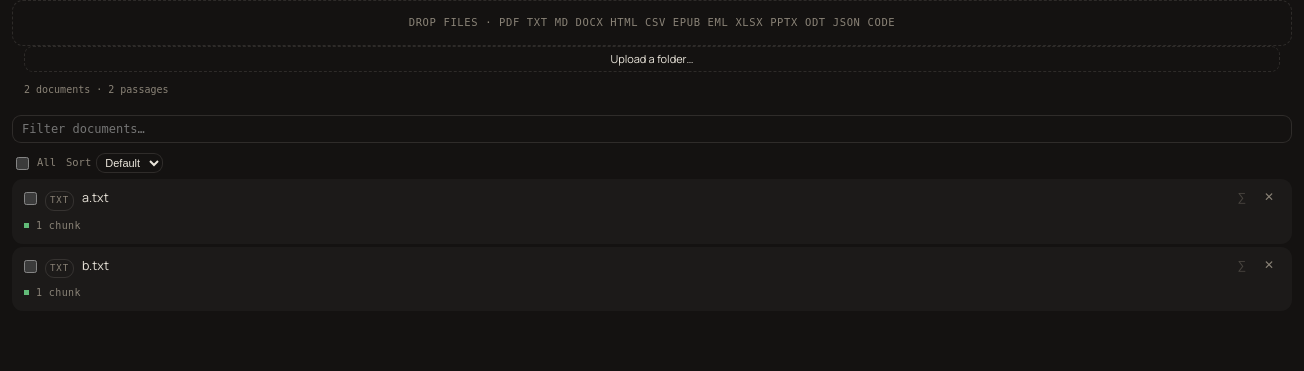
Scenario: CorpusPanel › keeps Summarize and Compare disabled while summaries can’t be asked
This screenshot has width=1304, height=371.
Expected: the button named "Summarize a.txt" is disabled, [1231,190,1252,204]
Click the 1st checkbox with test id "corpus-select": [30, 199] box [24,192,37,205]
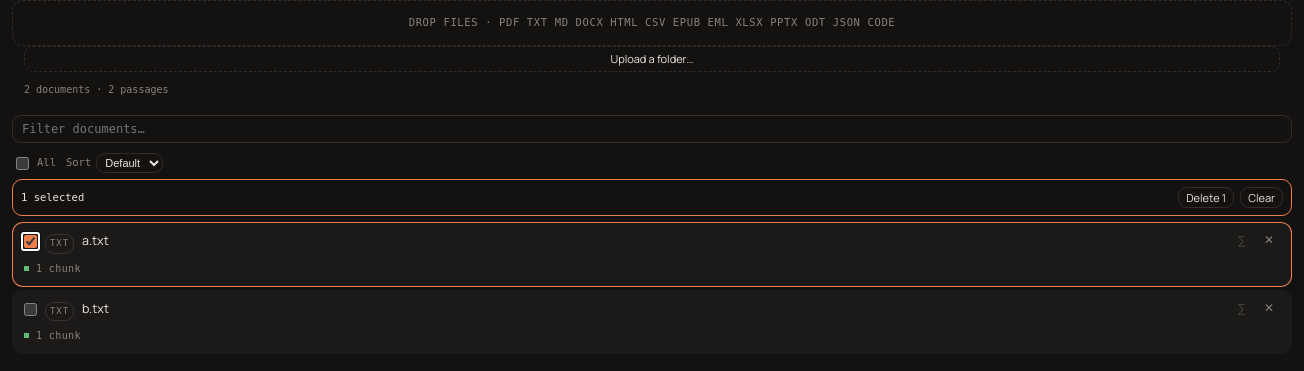
Click the 2nd checkbox with test id "corpus-select": [30, 309] box [24,303,37,316]
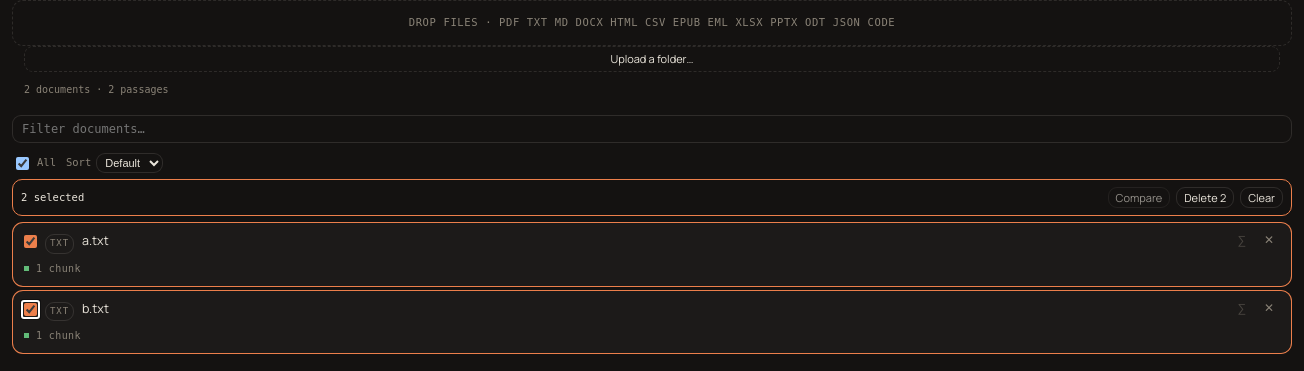
Expected: the button with test id "corpus-bulk-compare" is disabled, [1108,187,1170,208]
